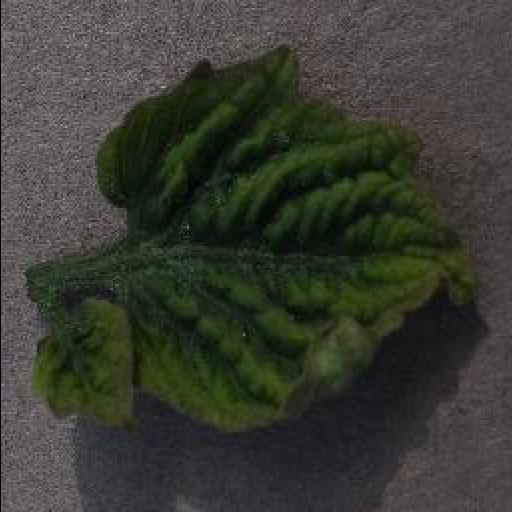disease_tomato: (34, 47, 472, 433)
